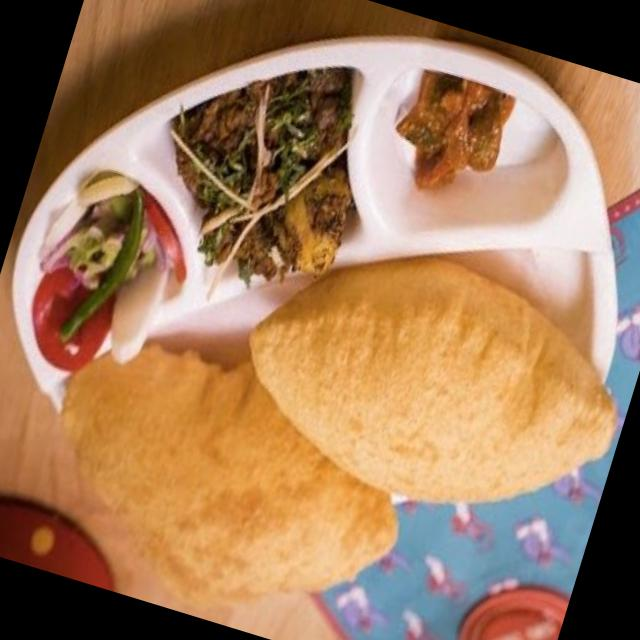Bhatura: (216, 210, 640, 552), (22, 314, 437, 640)
